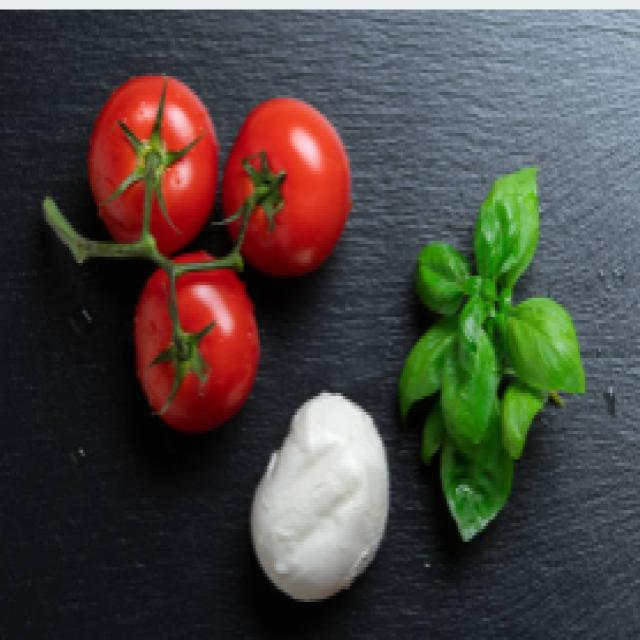Tomato: (79, 74, 218, 247), (134, 248, 264, 431), (225, 90, 347, 280)
